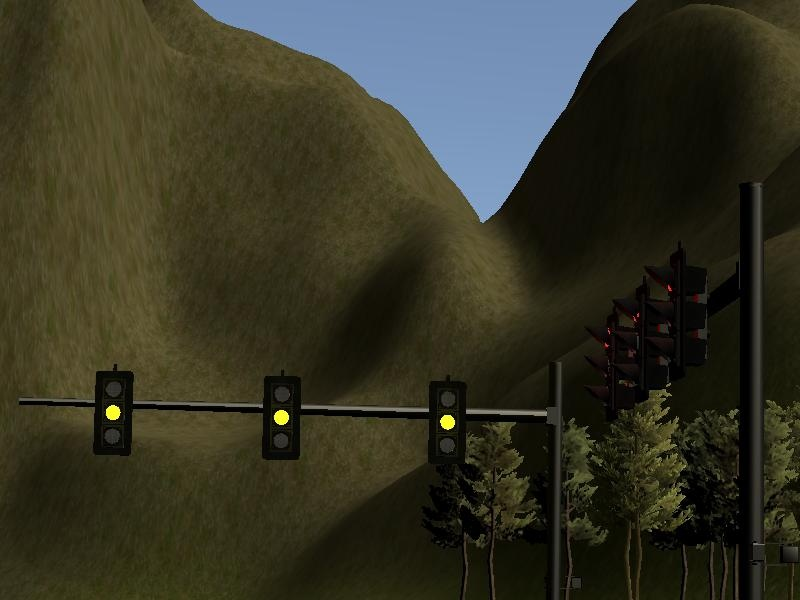yellow: (89, 362, 139, 459), (259, 369, 305, 464), (424, 373, 469, 469)
